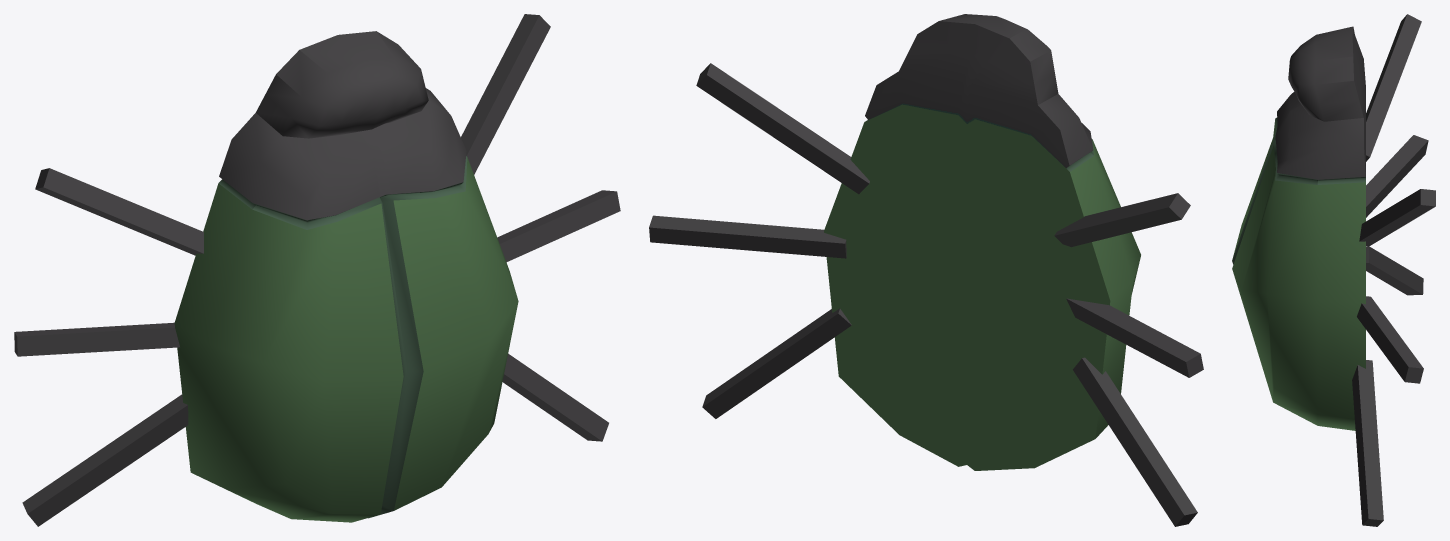
Rendered from atoll_bug.fbx.
The picture shows the model from 3 angles, left to right: view 1: azimuth 30°, elevation 25°; view 2: azimuth 150°, elevation 25°; view 3: azimuth 270°, elevation 25°; orthographic projection. The views are drawn at different scales.
Parts seen in each view (by area): view 1: atoll_bug; view 2: atoll_bug; view 3: atoll_bug.
Boxes of the visible parts, x1,y1,x2,y2 form: atoll_bug: (14,14,620,526); atoll_bug: (649,14,1203,526); atoll_bug: (1232,14,1435,526).
Bounding box in the file's own units: 49.58 × 38.07 × 18.2.
